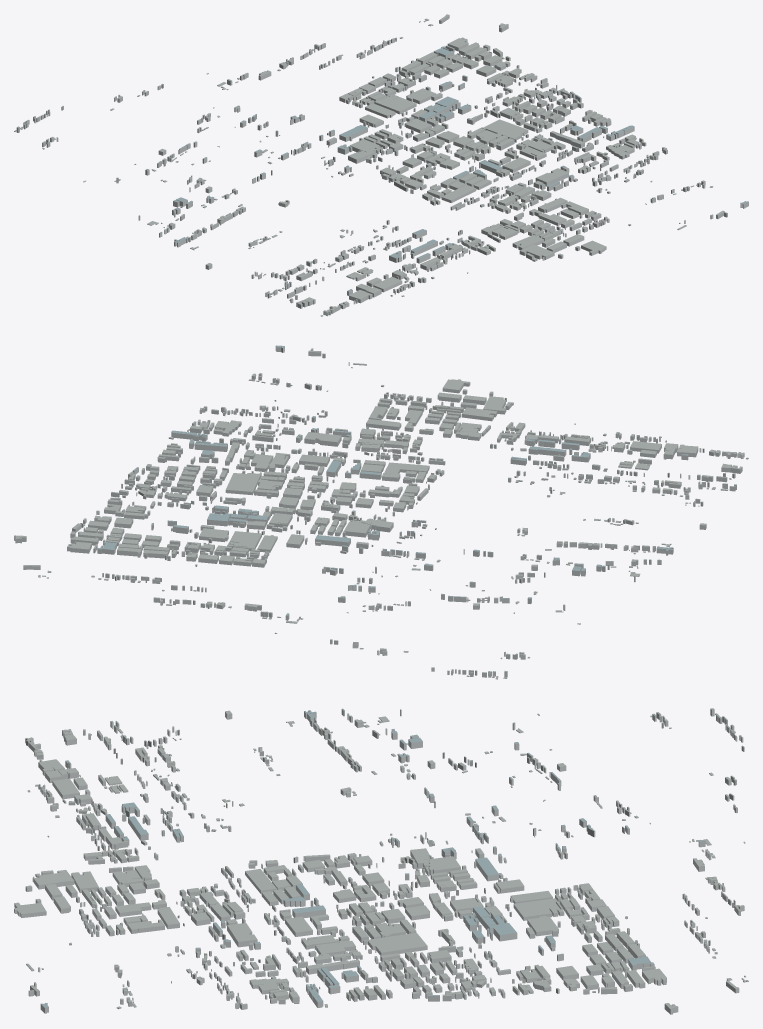
Rendered from far.glb.
The picture shows the model from 3 angles, top to bottom: view 1: azimuth 30°, elevation 25°; view 2: azimuth 150°, elevation 25°; view 3: azimuth 270°, elevation 25°; orthographic projection. The views are drawn at different scales.
Bounding box in the file's own units: 2074 × 22.5 × 2141.
